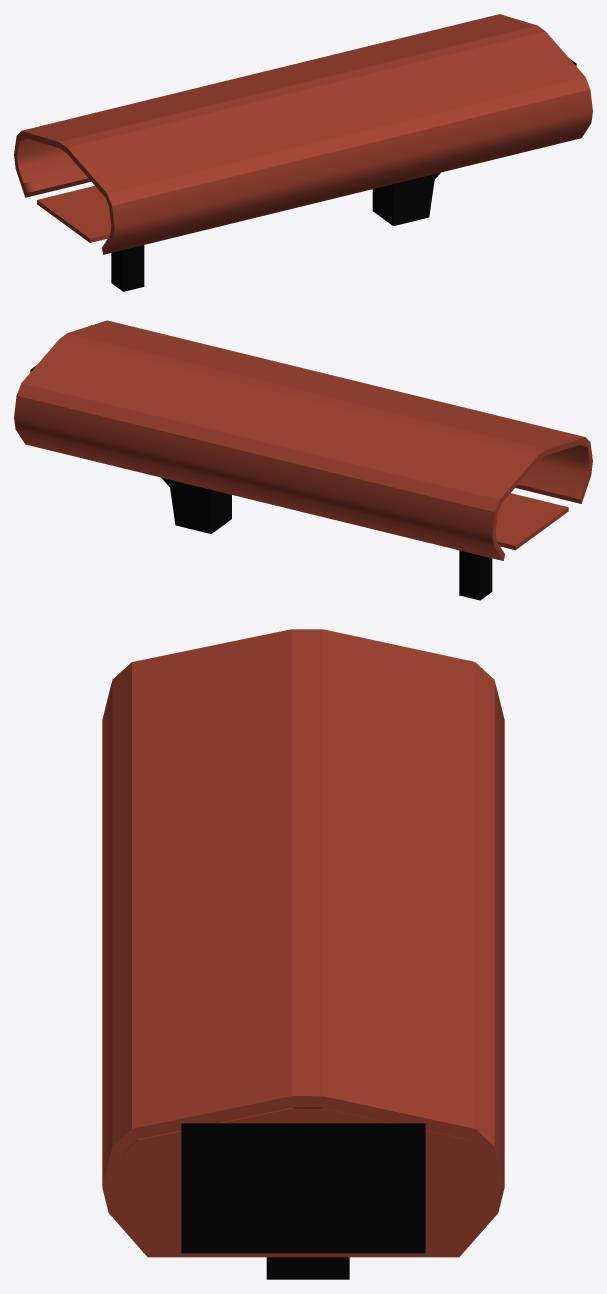
File: BottomSkiLift 1.fbx
3 renders of one model, top to bottom at view 1: azimuth 30°, elevation 25°; view 2: azimuth 150°, elevation 25°; view 3: azimuth 270°, elevation 25°, orthographic. The views are drawn at different scales.
Visible parts, largest first — view 1: BottomSkiLift; view 2: BottomSkiLift; view 3: BottomSkiLift.
Boxes of the visible parts, <box> form: BottomSkiLift: <box>14,14,592,291</box>; BottomSkiLift: <box>14,320,592,600</box>; BottomSkiLift: <box>102,629,504,1279</box>.
Size of the model in its own units: 4.45 by 12.3 by 3.81.
